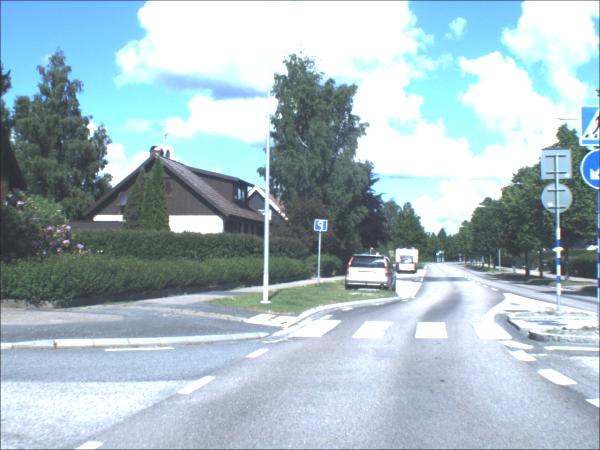PASS_RIGHT_SIDE: (581, 151, 600, 190), (436, 254, 440, 257)
PEDESTRIAN_CROSSING: (579, 107, 600, 148), (439, 251, 441, 255)
